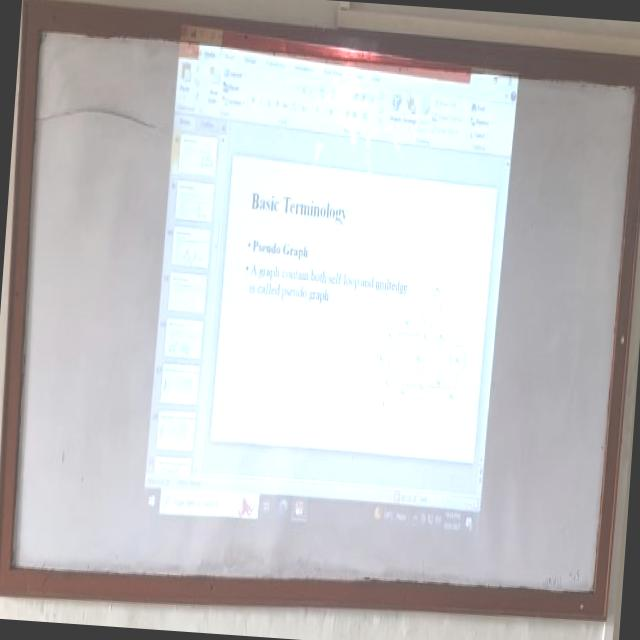Slide: (142, 19, 519, 546)
White-board: (5, 14, 640, 605)
